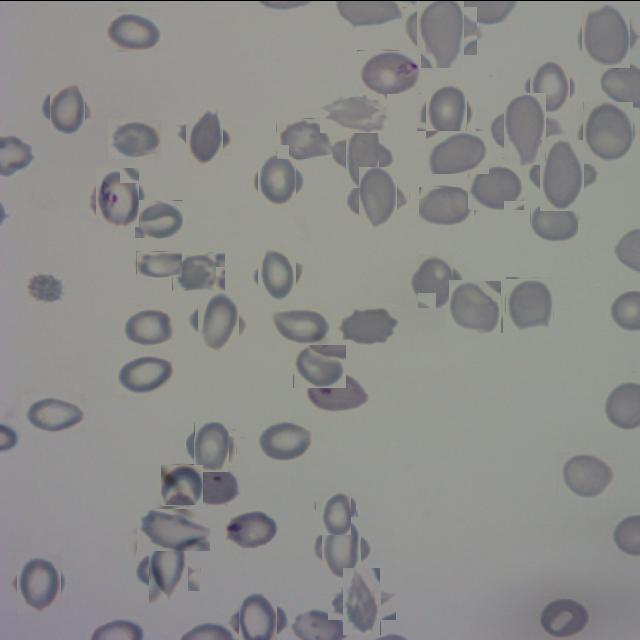leukocyte: (410, 0, 470, 61), (496, 100, 554, 158), (534, 145, 592, 203), (580, 104, 636, 161), (578, 7, 634, 63), (137, 508, 210, 550), (448, 279, 502, 333), (336, 574, 388, 627), (426, 130, 489, 173), (13, 556, 65, 608), (192, 295, 244, 347), (504, 279, 556, 331), (316, 522, 368, 574), (142, 544, 194, 596), (320, 92, 387, 132), (558, 451, 616, 497), (468, 163, 524, 209), (22, 393, 86, 433), (422, 84, 472, 134), (338, 130, 388, 180), (353, 172, 403, 222), (255, 418, 314, 460), (337, 304, 398, 344), (269, 305, 331, 344), (105, 11, 164, 51), (538, 596, 594, 638), (293, 343, 346, 387), (526, 62, 574, 110), (276, 117, 332, 158), (121, 306, 178, 346), (116, 354, 174, 393), (180, 113, 228, 160), (107, 118, 162, 158), (254, 251, 301, 297), (233, 596, 282, 640), (254, 156, 300, 202), (412, 257, 458, 303), (419, 186, 474, 224), (172, 251, 225, 290), (530, 199, 578, 241), (46, 84, 90, 128), (134, 200, 184, 238), (190, 425, 232, 468), (162, 463, 203, 505), (312, 491, 353, 532), (25, 271, 66, 303), (136, 250, 182, 276)
red blood cell: (358, 49, 422, 93), (92, 170, 144, 222)
